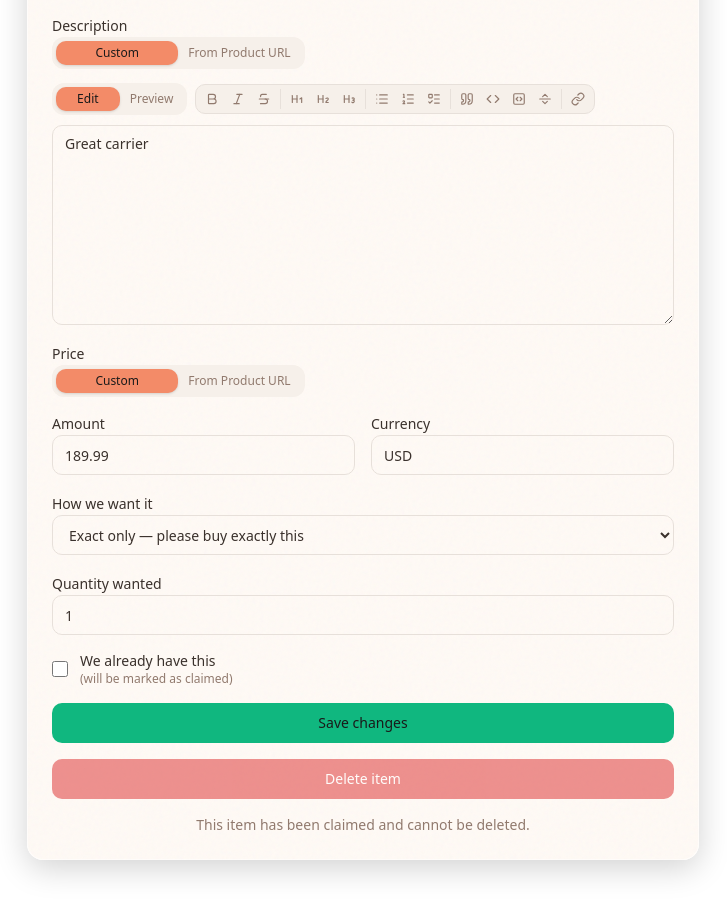
Test case: EditItemPage › shows inline error when price is set below already received amount
(page scrolled)
Replace the text in the number field labelled "Amount" with "50": (204, 455) [52,435,355,475]
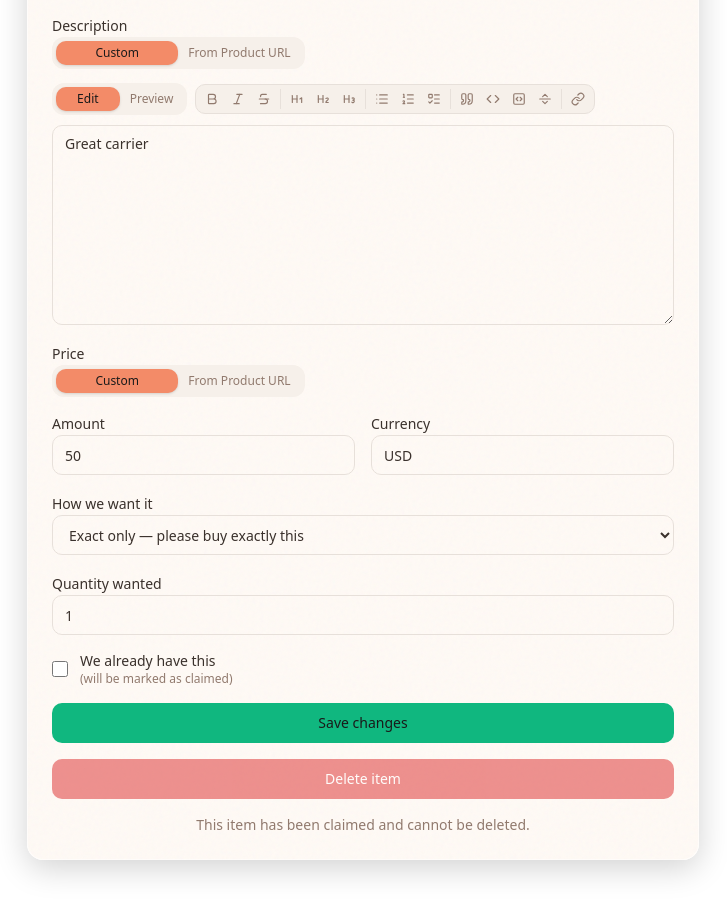
Click the button "Save changes": (363, 723) [52,703,674,743]
(page scrolled)
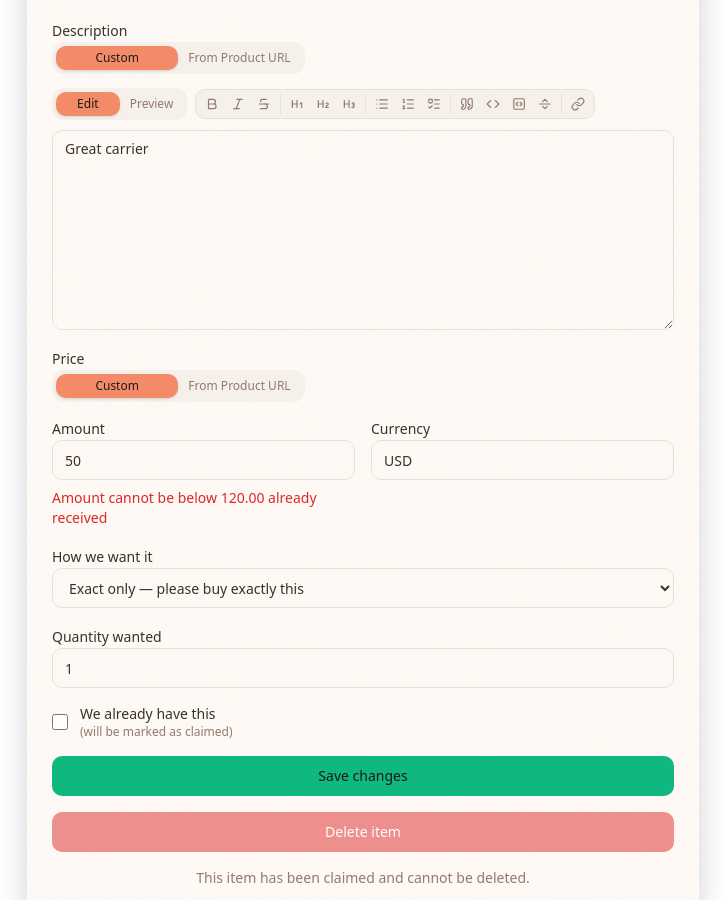
Check: the text "Amount cannot be below 120.00 already received" is shown, box [52,488,355,528]
